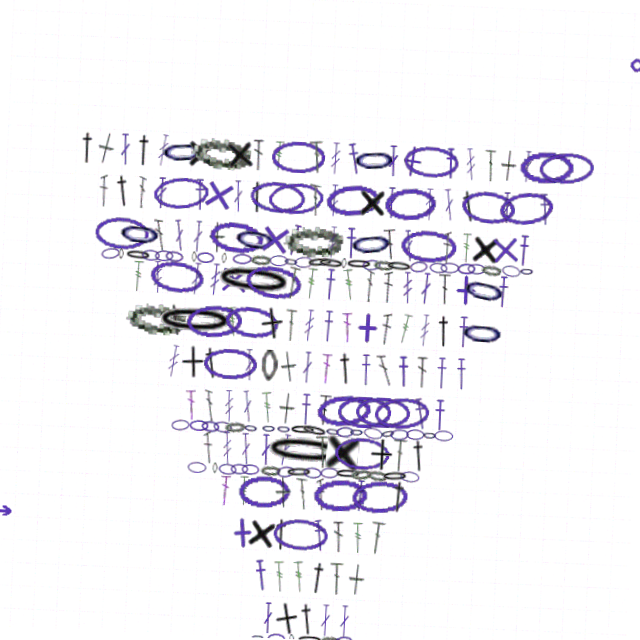chain: (211, 265, 293, 302), (269, 434, 350, 469), (155, 310, 235, 342), (492, 180, 550, 219), (242, 265, 301, 303), (319, 391, 376, 429), (223, 307, 281, 344), (147, 265, 204, 302), (204, 223, 261, 260), (147, 181, 204, 218), (319, 181, 376, 218), (280, 224, 340, 259), (184, 140, 244, 175), (358, 476, 416, 512), (531, 140, 589, 176), (377, 392, 434, 428), (262, 182, 319, 218), (185, 308, 243, 343), (455, 182, 511, 218), (126, 309, 186, 342), (378, 182, 433, 218), (244, 182, 300, 217), (458, 264, 508, 303), (396, 141, 453, 174), (320, 477, 375, 511), (397, 225, 453, 258), (282, 519, 337, 552), (340, 435, 395, 468), (512, 141, 567, 174), (359, 394, 415, 426), (245, 477, 299, 510), (91, 225, 145, 258), (344, 223, 392, 260), (205, 352, 260, 384), (341, 394, 395, 426), (228, 224, 276, 260), (264, 142, 318, 174), (113, 224, 160, 259), (152, 140, 199, 175), (344, 140, 391, 175), (460, 309, 506, 343), (263, 352, 280, 384), (305, 423, 333, 439), (304, 256, 331, 269), (292, 467, 319, 479), (388, 467, 415, 479), (122, 257, 149, 269), (315, 257, 342, 269), (383, 257, 410, 269), (341, 467, 368, 478), (294, 425, 321, 436), (343, 257, 370, 268), (368, 424, 388, 438), (499, 256, 519, 270), (357, 466, 378, 479), (229, 424, 250, 437), (283, 466, 302, 480), (98, 256, 118, 269), (407, 256, 426, 269), (374, 467, 394, 479), (479, 257, 499, 269), (407, 467, 426, 479), (218, 425, 237, 437), (395, 425, 414, 437), (162, 257, 181, 269), (292, 257, 311, 269), (267, 467, 287, 478), (248, 257, 268, 268), (371, 257, 391, 268), (225, 467, 243, 479), (310, 467, 328, 479), (176, 425, 194, 437), (206, 425, 224, 437), (341, 425, 359, 437), (360, 257, 378, 269), (427, 257, 445, 269), (194, 467, 213, 478), (194, 425, 213, 436), (439, 425, 458, 436), (152, 257, 171, 268), (230, 257, 249, 268), (267, 257, 286, 268), (438, 257, 457, 268), (385, 424, 401, 437), (237, 467, 255, 478), (248, 467, 266, 478), (327, 467, 345, 478), (411, 425, 429, 436), (139, 257, 157, 268), (194, 257, 212, 268), (455, 257, 473, 268), (465, 257, 483, 268), (248, 425, 263, 437), (330, 425, 345, 437), (281, 257, 296, 269), (266, 425, 281, 436), (281, 425, 296, 436), (354, 425, 369, 436), (427, 425, 442, 436), (517, 257, 532, 268), (310, 635, 337, 640), (348, 634, 367, 640), (334, 635, 354, 640), (281, 635, 299, 640), (264, 635, 279, 640), (219, 467, 224, 478), (116, 257, 121, 268), (189, 257, 194, 268), (219, 257, 224, 268), (339, 257, 344, 268), (303, 635, 308, 640)
double: (378, 519, 395, 552), (378, 351, 395, 384), (282, 267, 299, 300), (379, 225, 395, 258), (302, 141, 318, 174), (283, 435, 298, 468), (321, 436, 336, 468), (398, 436, 413, 468), (321, 394, 336, 426), (169, 225, 183, 258), (437, 183, 451, 216), (341, 562, 355, 594), (303, 478, 317, 510), (245, 393, 258, 426), (245, 436, 258, 468), (284, 310, 297, 342), (188, 268, 201, 300), (418, 268, 431, 300), (437, 268, 450, 300), (399, 226, 412, 258), (342, 520, 354, 552), (208, 436, 220, 468), (189, 394, 201, 426), (150, 226, 162, 258), (150, 184, 162, 216), (227, 184, 239, 216), (304, 184, 316, 216), (112, 142, 124, 174), (477, 142, 489, 174), (333, 604, 344, 636), (352, 604, 363, 636), (227, 478, 238, 510), (323, 478, 334, 510), (266, 436, 277, 468), (208, 394, 219, 426), (246, 352, 257, 384), (304, 352, 315, 384), (323, 352, 334, 384), (419, 352, 430, 384), (342, 310, 353, 342), (381, 310, 392, 342), (189, 226, 200, 258), (381, 184, 392, 216), (246, 142, 257, 174), (381, 142, 392, 174), (515, 142, 526, 174), (276, 604, 286, 636), (363, 268, 373, 300), (497, 184, 507, 216), (382, 268, 391, 300), (94, 184, 103, 216), (132, 184, 141, 216), (440, 226, 448, 258)
half_double: (318, 561, 340, 595), (165, 309, 187, 343), (453, 183, 475, 217), (203, 351, 224, 384), (107, 183, 128, 216), (310, 603, 330, 636), (396, 477, 416, 510), (415, 435, 434, 468), (338, 351, 357, 384), (281, 520, 300, 552), (127, 142, 146, 174), (282, 225, 300, 258), (435, 310, 453, 342), (243, 184, 261, 216), (71, 142, 89, 174), (416, 393, 433, 426), (339, 141, 356, 174), (264, 561, 280, 594), (321, 519, 336, 552), (533, 184, 547, 216), (361, 478, 374, 510), (399, 352, 412, 384), (457, 352, 470, 384), (322, 310, 335, 342), (322, 268, 335, 300), (495, 268, 508, 300), (514, 226, 527, 258), (188, 184, 201, 216), (304, 394, 316, 426), (438, 394, 450, 426), (362, 352, 374, 384), (438, 352, 450, 384), (458, 310, 470, 342), (342, 226, 354, 258), (438, 142, 450, 174)
noise: (617, 43, 634, 60), (0, 519, 22, 529)
single: (195, 181, 232, 218), (254, 224, 289, 259), (388, 140, 423, 175), (235, 519, 269, 553), (331, 435, 365, 469), (485, 225, 519, 259), (255, 518, 288, 553), (217, 140, 249, 175), (216, 267, 249, 300), (467, 225, 498, 259), (285, 602, 314, 638), (352, 310, 384, 342), (448, 268, 480, 300), (258, 308, 286, 343), (353, 184, 382, 216), (180, 142, 209, 174), (182, 351, 207, 384), (375, 436, 399, 468), (88, 141, 110, 175), (281, 351, 301, 385), (359, 562, 377, 594), (282, 478, 300, 510), (282, 394, 300, 426), (493, 142, 511, 174), (206, 226, 222, 258)
treble: (397, 309, 414, 342), (264, 393, 279, 426), (168, 351, 183, 384), (340, 267, 355, 300), (303, 561, 317, 594), (226, 309, 240, 342), (149, 141, 163, 174), (284, 562, 298, 594), (457, 142, 471, 174), (361, 520, 374, 552), (303, 310, 316, 342), (130, 268, 143, 300), (207, 268, 220, 300), (303, 268, 316, 300), (227, 436, 239, 468), (227, 394, 239, 426), (419, 310, 431, 342), (150, 268, 162, 300), (400, 268, 412, 300), (323, 226, 335, 258), (323, 184, 335, 216), (266, 142, 278, 174), (246, 478, 257, 510), (458, 226, 469, 258), (419, 184, 430, 216), (323, 142, 334, 174)
